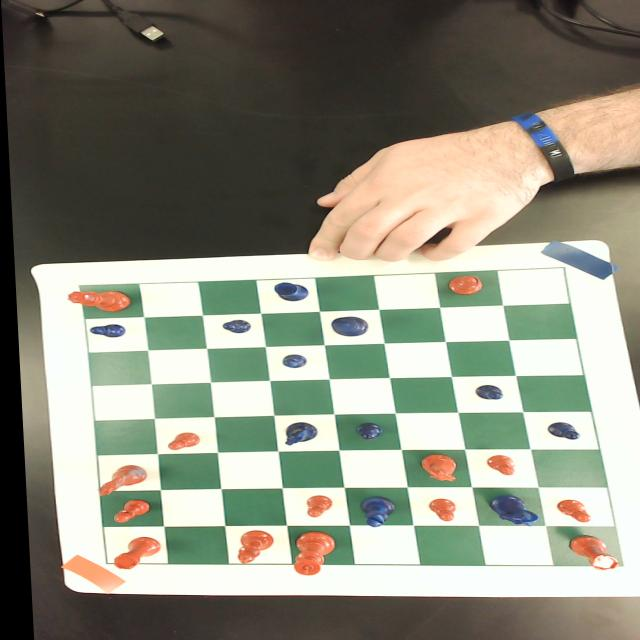B: (353, 498, 393, 528)
K: (324, 316, 365, 336)
N: (481, 494, 534, 528), (276, 422, 315, 446)
P: (540, 422, 576, 440), (84, 324, 122, 338), (349, 423, 378, 441), (469, 384, 499, 400), (216, 319, 247, 333), (276, 354, 302, 368)
R: (268, 282, 307, 302)
b: (228, 531, 269, 565), (442, 273, 483, 297)
k: (286, 532, 332, 576)
n: (91, 464, 143, 498), (414, 456, 456, 482)
p: (106, 500, 145, 524), (548, 499, 585, 523), (420, 498, 451, 522), (297, 494, 327, 518), (160, 432, 196, 451), (480, 456, 511, 476)
q: (62, 291, 128, 311)
r: (559, 535, 614, 571), (104, 536, 156, 570)
